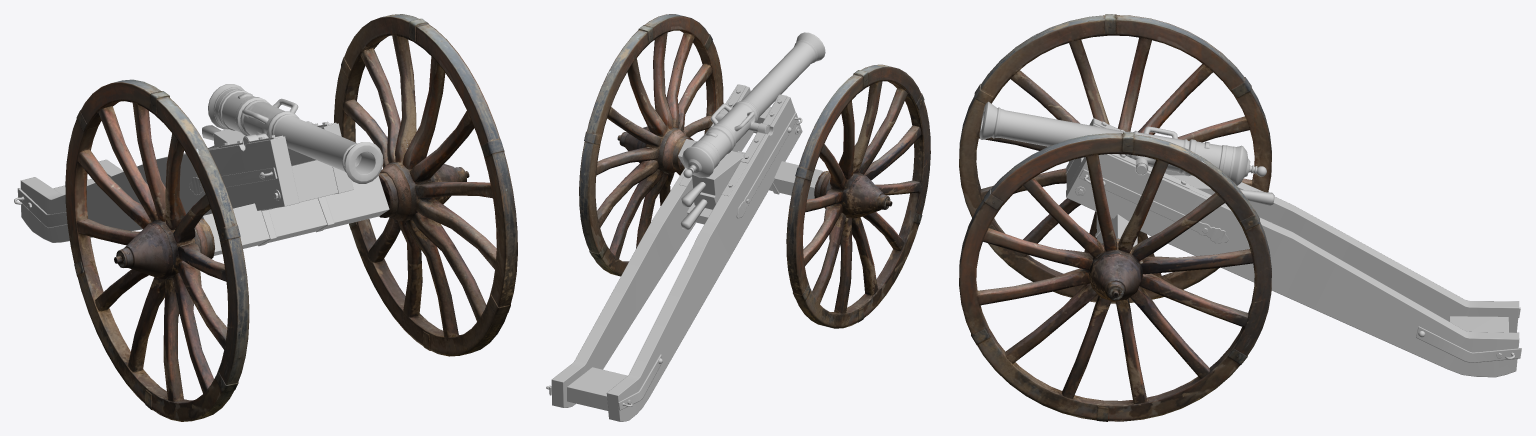
3 views of the same model, side by side, from view 1: azimuth 30°, elevation 25°; view 2: azimuth 150°, elevation 25°; view 3: azimuth 270°, elevation 25° (orthographic). The views are drawn at different scales.
Parts seen in each view (by area): view 1: Big_cannon_wheels, Big_cannon_wood_parts, Big_cannon_metall_parts, Big_cannon_wheels_parts; view 2: Big_cannon_wheels, Big_cannon_wood_parts, Big_cannon_metall_parts, Big_cannon_wheels_parts; view 3: Big_cannon_wheels, Big_cannon_wood_parts, Big_cannon_metall_parts, Big_cannon_wheels_parts.
Boxes of the visible parts, bbox=[...] form: Big_cannon_wheels: bbox=[65, 14, 517, 421]; Big_cannon_wood_parts: bbox=[20, 123, 389, 255]; Big_cannon_metall_parts: bbox=[14, 84, 383, 246]; Big_cannon_wheels_parts: bbox=[74, 18, 510, 410]; Big_cannon_wheels: bbox=[579, 14, 930, 328]; Big_cannon_wood_parts: bbox=[551, 84, 822, 421]; Big_cannon_metall_parts: bbox=[546, 32, 825, 410]; Big_cannon_wheels_parts: bbox=[584, 25, 924, 322]; Big_cannon_wheels: bbox=[959, 15, 1271, 421]; Big_cannon_wood_parts: bbox=[1066, 118, 1519, 377]; Big_cannon_metall_parts: bbox=[979, 101, 1521, 362]; Big_cannon_wheels_parts: bbox=[971, 14, 1259, 421].
Bounding box in the file's own units: 1.65 × 1.42 × 2.53.
